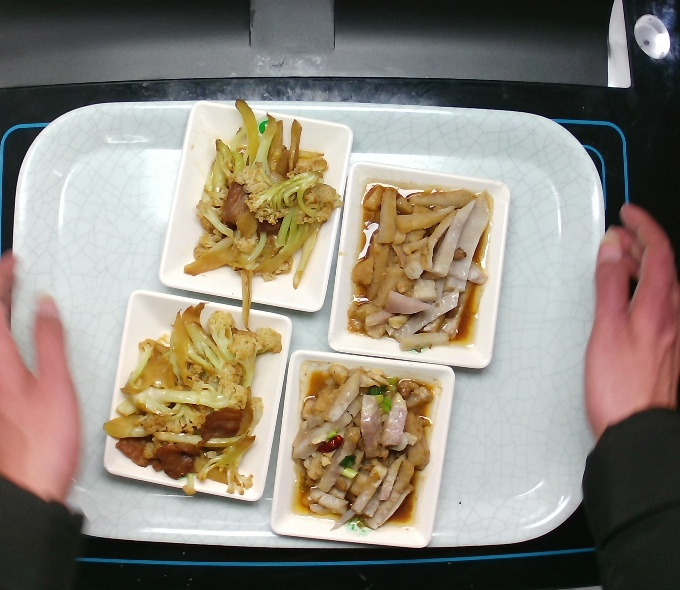wcq-QiuCaiChaoRou: (179, 101, 353, 303), (108, 304, 282, 506)
wcq-YuTou: (284, 360, 455, 539), (336, 177, 507, 356)
